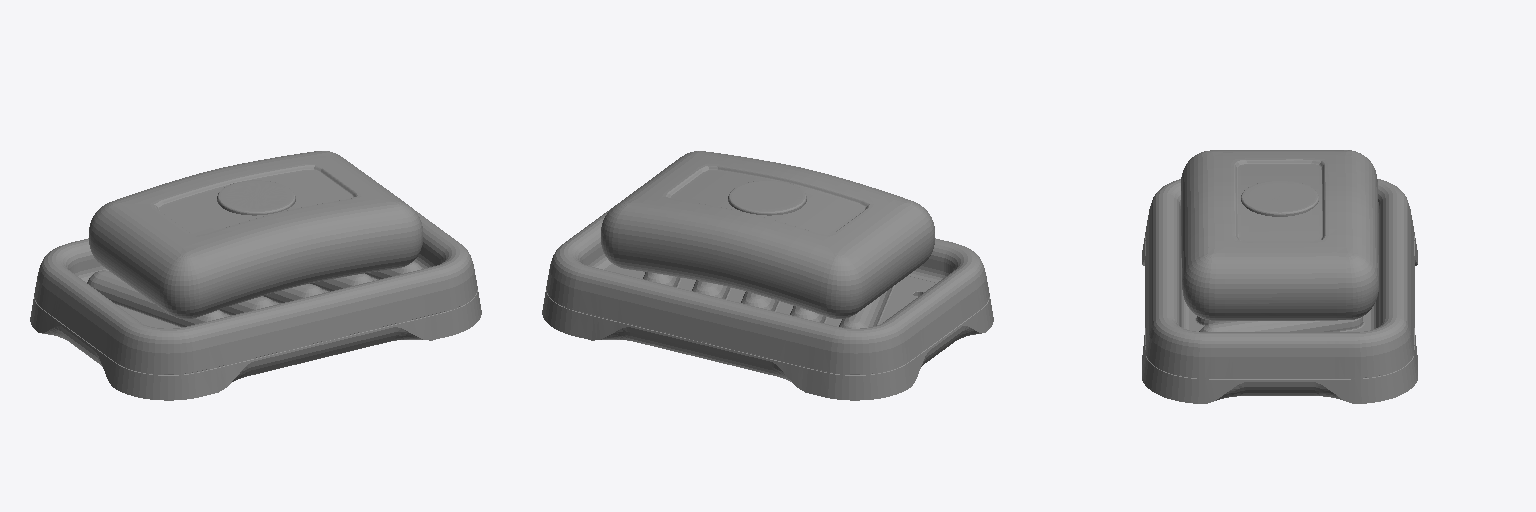
File: milo.obj
3 renders of one model, left to right at view 1: azimuth 30°, elevation 25°; view 2: azimuth 150°, elevation 25°; view 3: azimuth 270°, elevation 25°, orthographic.
Visible parts, largest first — view 1: soap_dish, soap; view 2: soap_dish, soap; view 3: soap, soap_dish.
Part boxes in pixels (x1,y1,x2,y2): soap_dish: (30, 211, 481, 400); soap: (89, 151, 422, 318); soap_dish: (542, 205, 993, 400); soap: (601, 151, 934, 318); soap: (1181, 150, 1378, 320); soap_dish: (1142, 179, 1417, 403).
Bounding box in the file's own units: 10.54 × 3.37 × 6.99.